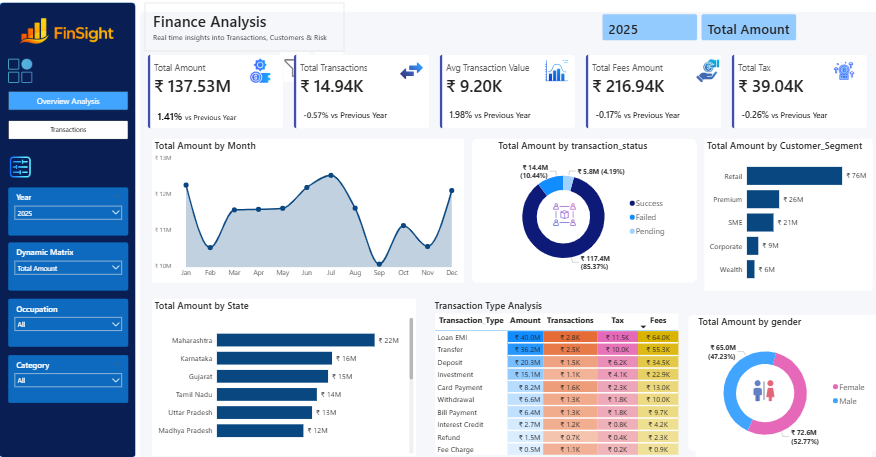

The dashboard page shown, as its layout file describes it:
{"tool":"powerbi","page":{"name":"Overview Analysis","canvas":[1800,950],"ordinal":0},"visuals":[{"type":"shape","box":[320,288,624,288],"z":0},{"type":"shape","box":[864,576,528,352],"z":1000},{"type":"shape","box":[16,16,272,912],"z":2000},{"type":"shape","box":[296,32,1504,912],"z":3000},{"type":"image","box":[48,32,208,80],"z":4000},{"type":"cardVisual","fields":{"Data":["Calender Table.Dashboard  Title"]},"box":[304,16,400,96],"z":5000},{"type":"cardVisual","fields":{"Data":["Calender Table.Total Amount","finance_transactions.Total Transactions","finance_transactions.Avg Transaction Value","finance_transactions.Total Fees Amount","finance_transactions.Total Tax"]},"box":[304,112,1456,160],"z":6000},{"type":"slicer","fields":{"Values":["Calender Table.Year"]},"box":[32,384,240,96],"z":7000},{"type":"image","box":[512,128,48,48],"z":8000},{"type":"image","box":[816,128,48,48],"z":9000},{"type":"image","box":[1408,128,48,48],"z":10000},{"type":"image","box":[1104,128,48,48],"z":11000},{"type":"image","box":[1680,128,48,48],"z":12000},{"type":"slicer","fields":{"Values":["Dynamic Matrix.Dynamic Matrix"]},"box":[32,496,240,96],"z":13000},{"type":"shape","box":[960,288,450,288],"z":14000},{"type":"areaChart","fields":{"Y":["Calender Table.Total Amount"],"Category":["Calender Table.Month"]},"box":[320,288,624,288],"z":15000},{"type":"cardVisual","fields":{"Data":["Calender Table.Selected Year","Calender Table.Selected Dynamic Measure"]},"box":[1216,32,400,64],"z":16000},{"type":"shape","box":[320,608,520,308],"z":17000},{"type":"donutChart","fields":{"Y":["Calender Table.Total Amount"],"Category":["finance_transactions.transaction_status"]},"box":[1008,288,352,288],"z":18000},{"type":"shape","box":[1424,288,336,288],"z":19000},{"type":"barChart","fields":{"Y":["Calender Table.Total Amount"],"Category":["customers (1).customer_segment"]},"box":[1424,288,336,304],"z":20000},{"type":"barChart","fields":{"Y":["Calender Table.Total Amount"],"Category":["customers (1).state"]},"box":[320,608,528,315],"z":21000},{"type":"tableEx","title":"Transaction Type Analysis","fields":{"Values":["finance_transactions.transaction_type","Calender Table.Total Amount","finance_transactions.Total Transactions","finance_transactions.Total Tax","finance_transactions.Total Fees Amount"]},"box":[880,608,512,320],"z":22000},{"type":"shape","box":[1392,640,384,272],"z":23000},{"type":"donutChart","fields":{"Y":["Calender Table.Total Amount"],"Category":["customers (1).gender"]},"box":[1408,640,352,288],"z":24000},{"type":"image","box":[1104,416,80,48],"z":25000},{"type":"image","box":[1520,768,48,48],"z":26000},{"type":"slicer","fields":{"Values":["customers (1).occupation"]},"box":[32,608,240,96],"z":27000},{"type":"slicer","fields":{"Values":["finance_transactions.merchant_category"]},"box":[32,720,240,96],"z":28000},{"type":"pageNavigator","box":[32,192,240,96],"z":29000},{"type":"image","box":[32,128,48,48],"z":30000},{"type":"image","box":[32,320,48,48],"z":31000}]}

Visuals, with their boxes on the page's 1800x950 design canvas (x1, y1, x2, y2). These are canvas units, not pixel positions in the 876x457 screenshot, which may show the page scaled, cropped or inside an application window:
shape: {"x1": 320, "y1": 288, "x2": 944, "y2": 576}
shape: {"x1": 864, "y1": 576, "x2": 1392, "y2": 928}
shape: {"x1": 16, "y1": 16, "x2": 288, "y2": 928}
shape: {"x1": 296, "y1": 32, "x2": 1800, "y2": 944}
image: {"x1": 48, "y1": 32, "x2": 256, "y2": 112}
cardVisual - Calender Table.Dashboard  Title: {"x1": 304, "y1": 16, "x2": 704, "y2": 112}
cardVisual - Calender Table.Total Amount x finance_transactions.Total Transactions: {"x1": 304, "y1": 112, "x2": 1760, "y2": 272}
slicer - Calender Table.Year: {"x1": 32, "y1": 384, "x2": 272, "y2": 480}
image: {"x1": 512, "y1": 128, "x2": 560, "y2": 176}
image: {"x1": 816, "y1": 128, "x2": 864, "y2": 176}
image: {"x1": 1408, "y1": 128, "x2": 1456, "y2": 176}
image: {"x1": 1104, "y1": 128, "x2": 1152, "y2": 176}
image: {"x1": 1680, "y1": 128, "x2": 1728, "y2": 176}
slicer - Dynamic Matrix.Dynamic Matrix: {"x1": 32, "y1": 496, "x2": 272, "y2": 592}
shape: {"x1": 960, "y1": 288, "x2": 1410, "y2": 576}
areaChart - Calender Table.Total Amount x Calender Table.Month: {"x1": 320, "y1": 288, "x2": 944, "y2": 576}
cardVisual - Calender Table.Selected Year x Calender Table.Selected Dynamic Measure: {"x1": 1216, "y1": 32, "x2": 1616, "y2": 96}
shape: {"x1": 320, "y1": 608, "x2": 840, "y2": 916}
donutChart - Calender Table.Total Amount x finance_transactions.transaction_status: {"x1": 1008, "y1": 288, "x2": 1360, "y2": 576}
shape: {"x1": 1424, "y1": 288, "x2": 1760, "y2": 576}
barChart - Calender Table.Total Amount x customers (1).customer_segment: {"x1": 1424, "y1": 288, "x2": 1760, "y2": 592}
barChart - Calender Table.Total Amount x customers (1).state: {"x1": 320, "y1": 608, "x2": 848, "y2": 923}
"Transaction Type Analysis" tableEx: {"x1": 880, "y1": 608, "x2": 1392, "y2": 928}
shape: {"x1": 1392, "y1": 640, "x2": 1776, "y2": 912}
donutChart - Calender Table.Total Amount x customers (1).gender: {"x1": 1408, "y1": 640, "x2": 1760, "y2": 928}
image: {"x1": 1104, "y1": 416, "x2": 1184, "y2": 464}
image: {"x1": 1520, "y1": 768, "x2": 1568, "y2": 816}
slicer - customers (1).occupation: {"x1": 32, "y1": 608, "x2": 272, "y2": 704}
slicer - finance_transactions.merchant_category: {"x1": 32, "y1": 720, "x2": 272, "y2": 816}
pageNavigator: {"x1": 32, "y1": 192, "x2": 272, "y2": 288}
image: {"x1": 32, "y1": 128, "x2": 80, "y2": 176}
image: {"x1": 32, "y1": 320, "x2": 80, "y2": 368}
